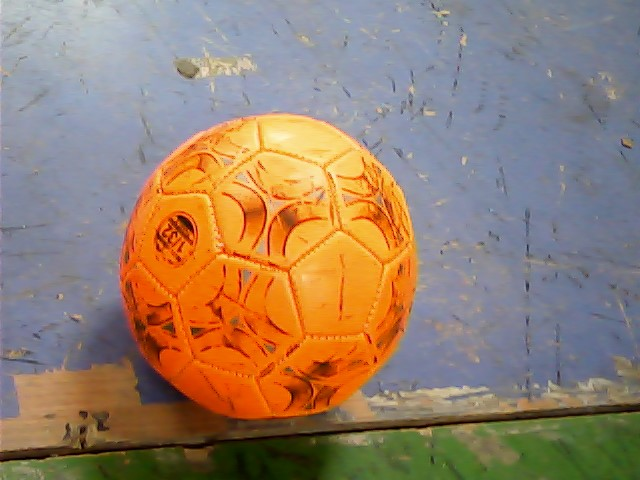Orange_ball: (116, 85, 434, 423)
